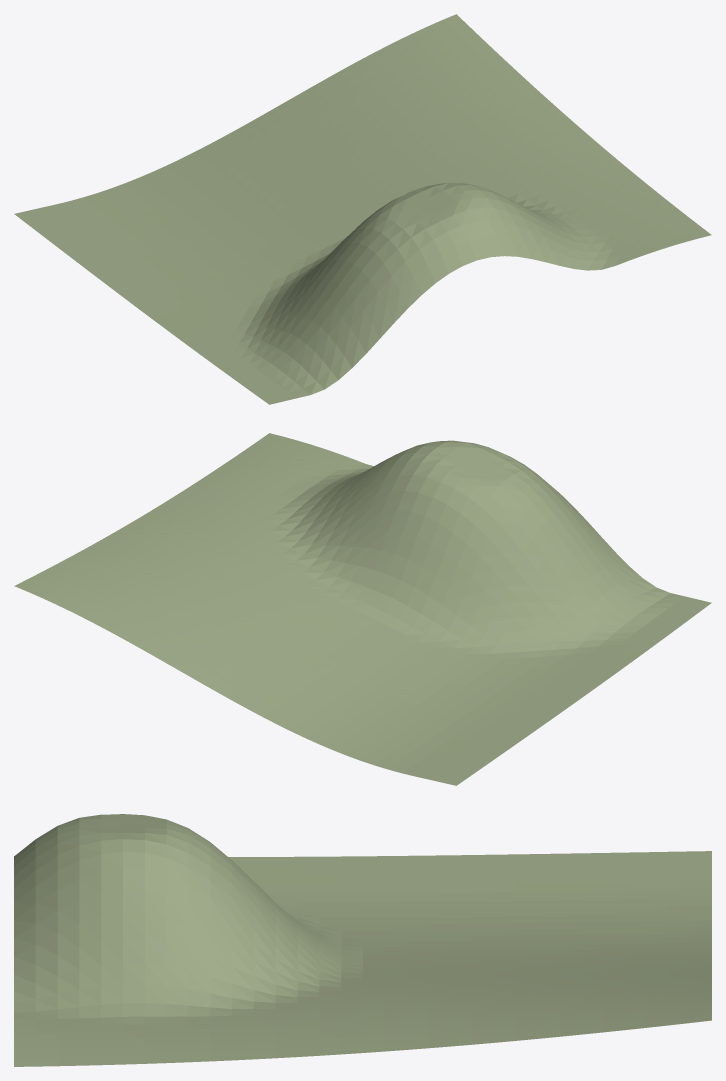
File: expanse-21-24.glb
3 renders of one model, top to bottom at view 1: azimuth 30°, elevation 25°; view 2: azimuth 150°, elevation 25°; view 3: azimuth 270°, elevation 25°, orthographic. The views are drawn at different scales.
Parts seen in each view (by area): view 1: expanse-21-24; view 2: expanse-21-24; view 3: expanse-21-24.
Boxes of the visible parts, box(x1,y1,x2,y2) form: expanse-21-24: box(14, 14, 711, 404); expanse-21-24: box(14, 433, 711, 785); expanse-21-24: box(14, 814, 711, 1066).
Bounding box in the file's own units: 256 × 70.94 × 256.
